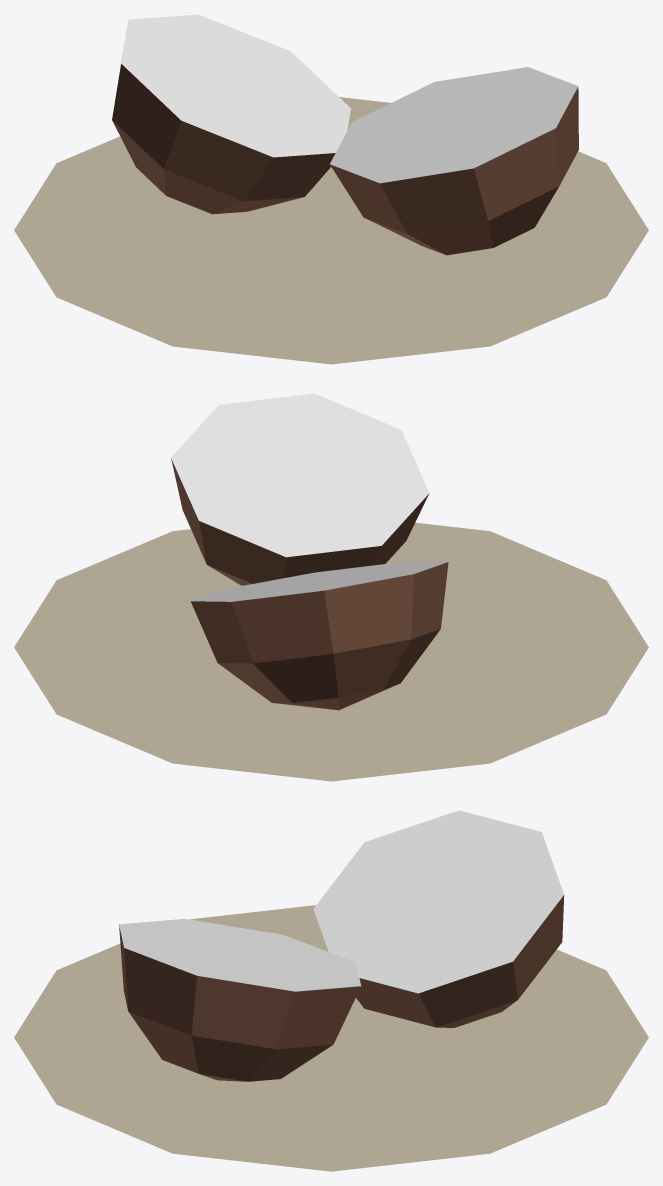
File: coconut.fbx
3 views of the same model, one above another, from view 1: azimuth 30°, elevation 25°; view 2: azimuth 150°, elevation 25°; view 3: azimuth 270°, elevation 25° (orthographic).
Parts seen in each view (by area): view 1: pSphere3; view 2: pSphere3; view 3: pSphere3.
Part boxes in pixels (x1,y1,x2,y2): pSphere3: (14, 14, 648, 364); pSphere3: (14, 393, 648, 781); pSphere3: (14, 810, 648, 1171).
Bounding box in the file's own units: 0.4 × 0.1101 × 0.4.
